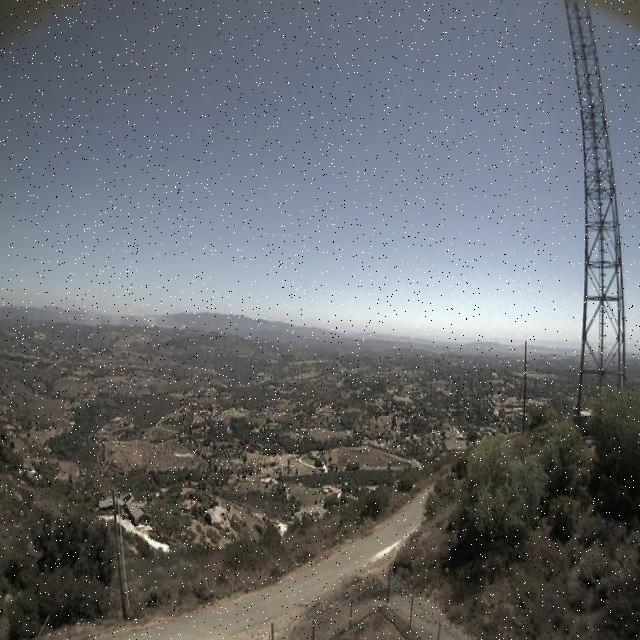smoke: (73, 302, 189, 331)
